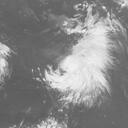cyclone: (44, 44, 111, 104)
